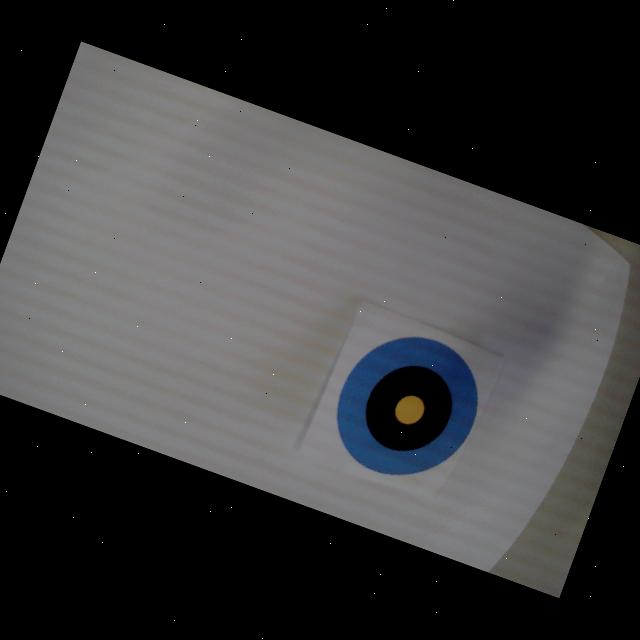COGNITIVE: (320, 315, 497, 498)
